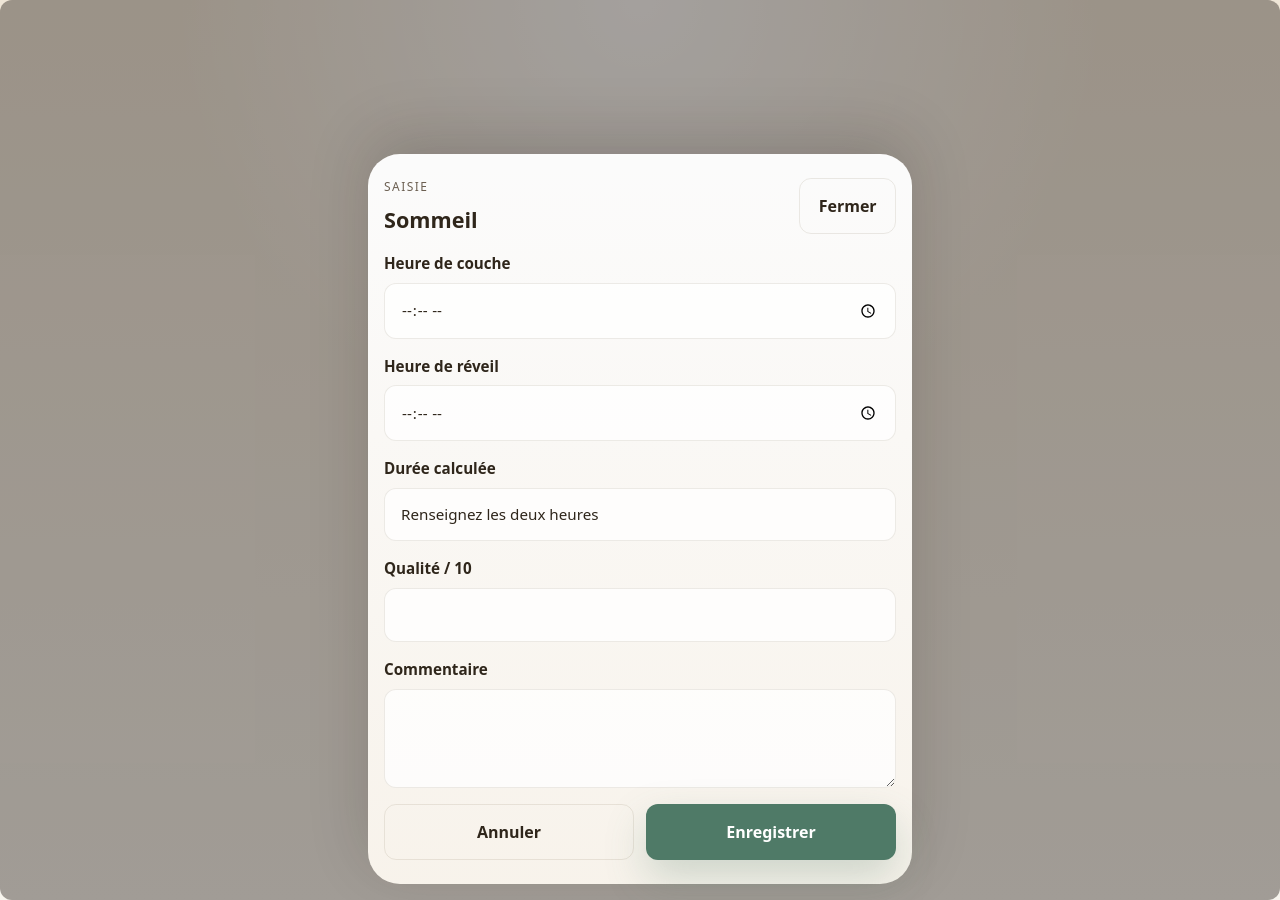
Test case: EntrySheet › shows the calculated sleep duration in hours and minutes
This screenshot has width=1280, height=900.
Type "23:15" into the time field labelled "Heure de couche" at (640, 311), box [384,283,896,339]
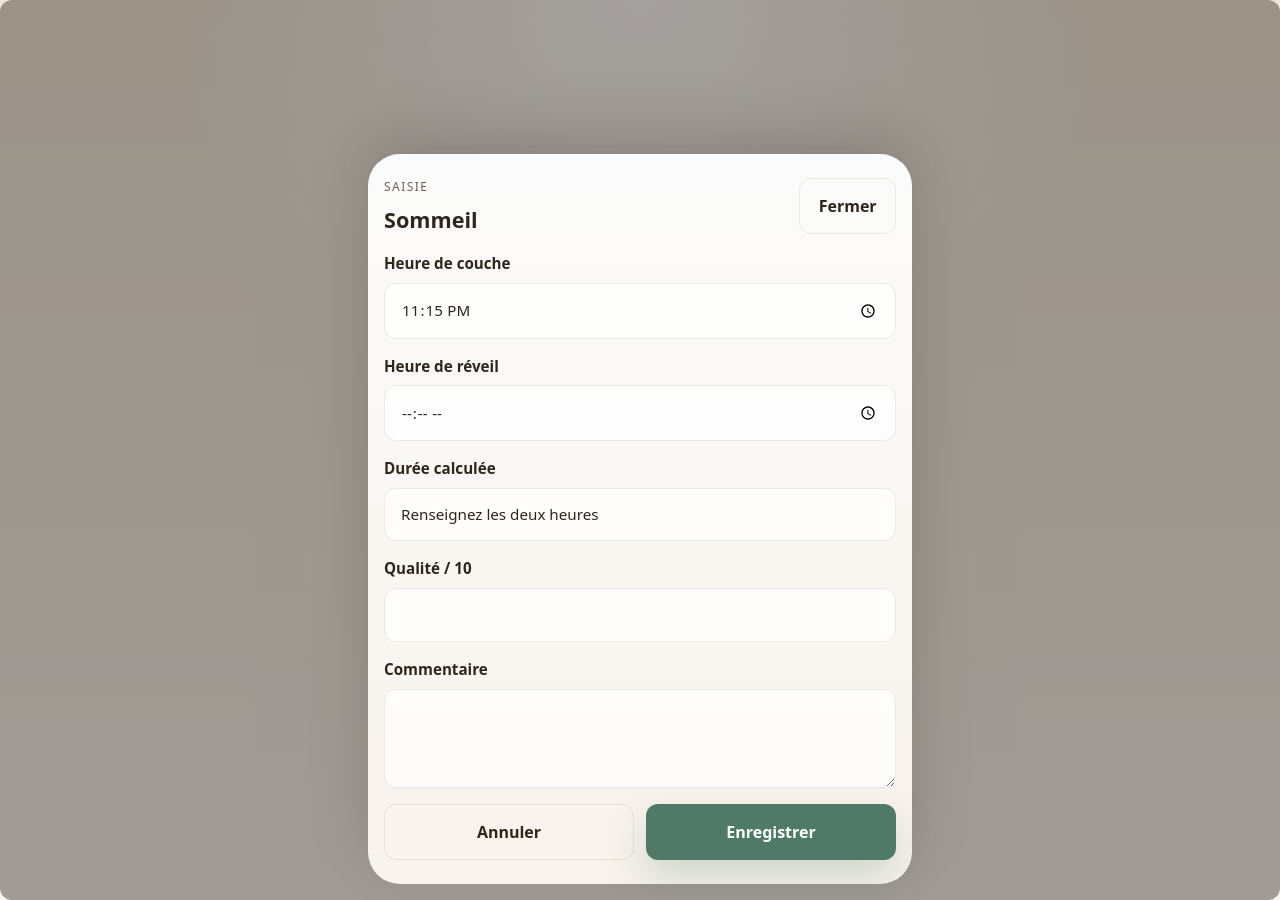
Type "07:00" into the time field labelled "Heure de réveil" at (640, 413), box [384,385,896,441]
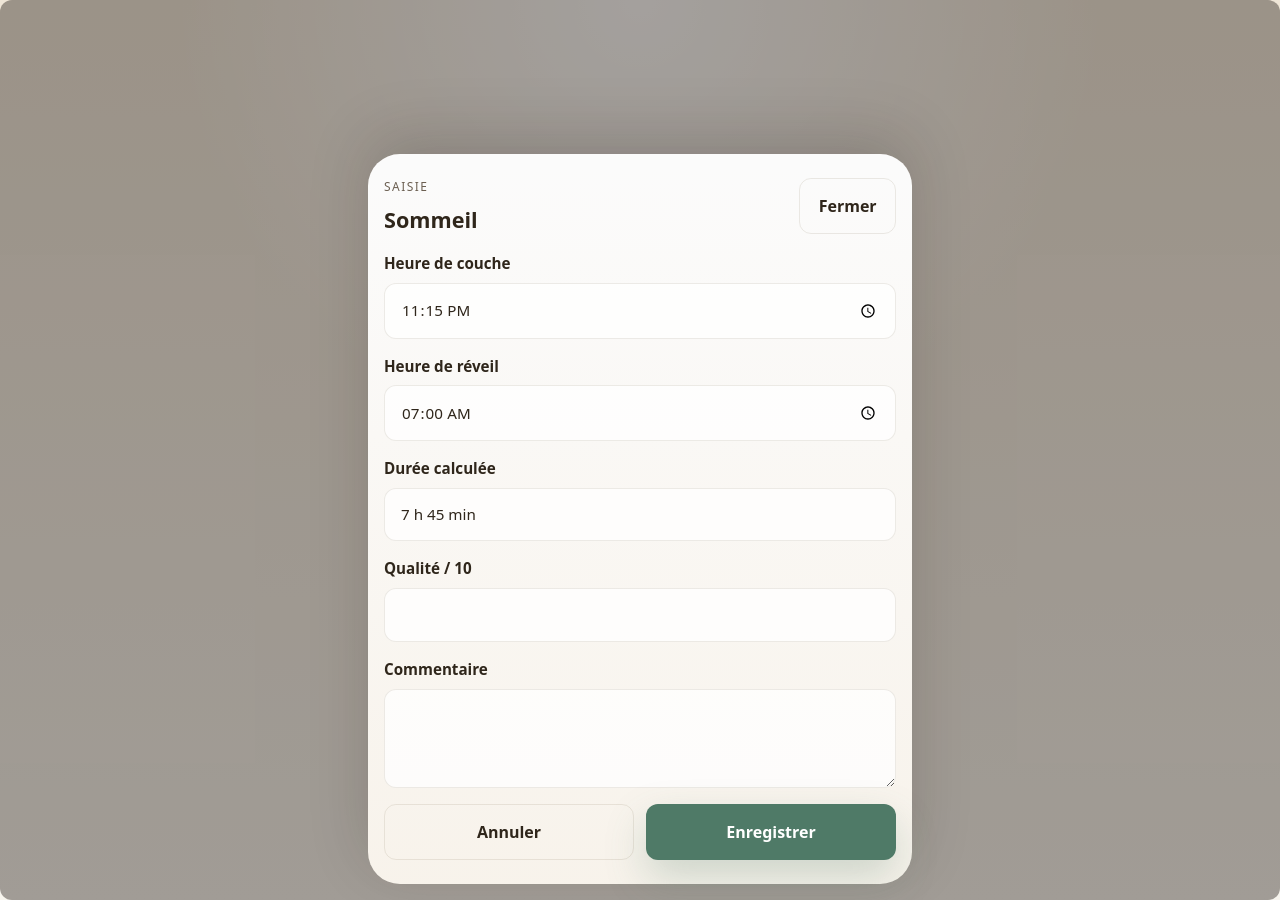
Expected: the field showing "7 h 45 min" is shown, [384,488,896,541]
